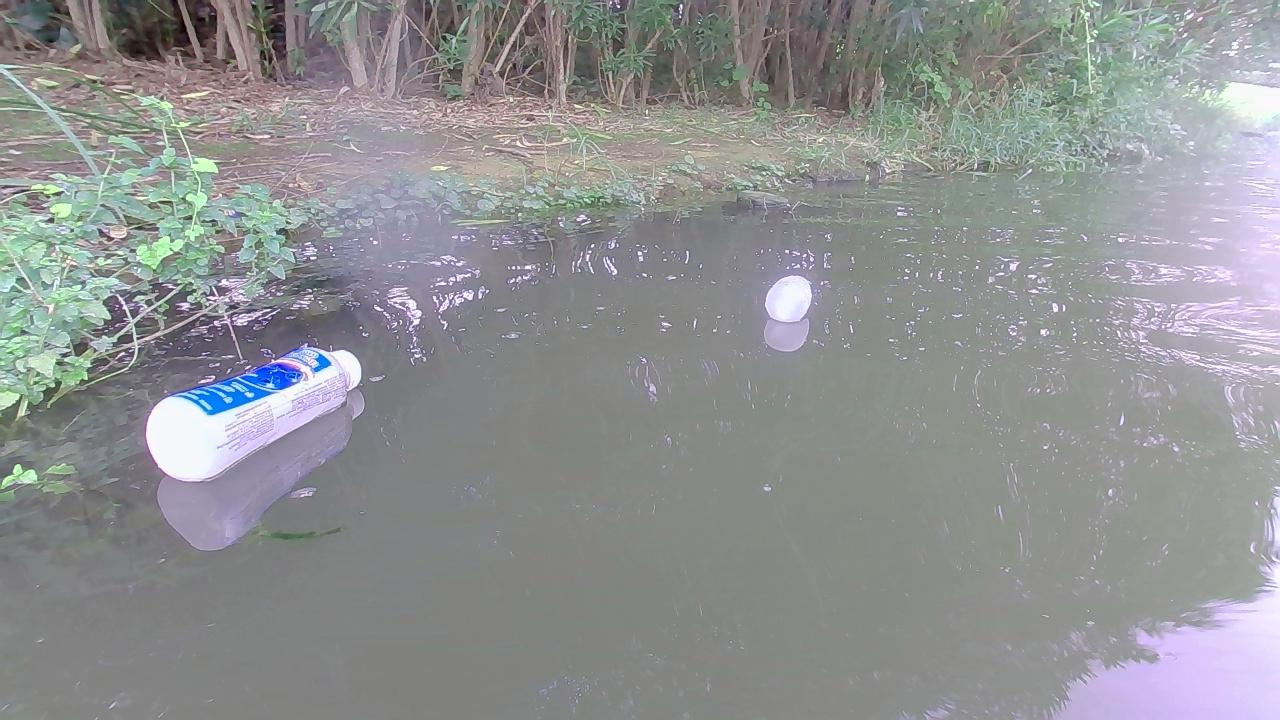Plastic: (143, 344, 364, 484), (763, 272, 819, 326)
